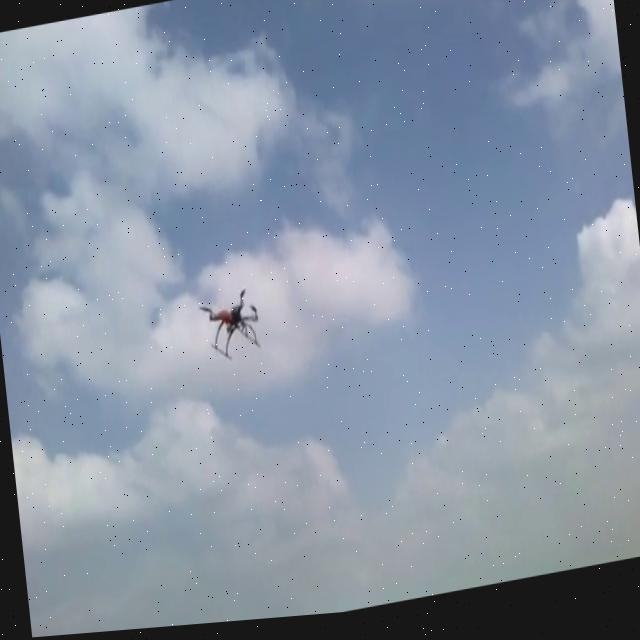drone: (196, 287, 262, 370)
